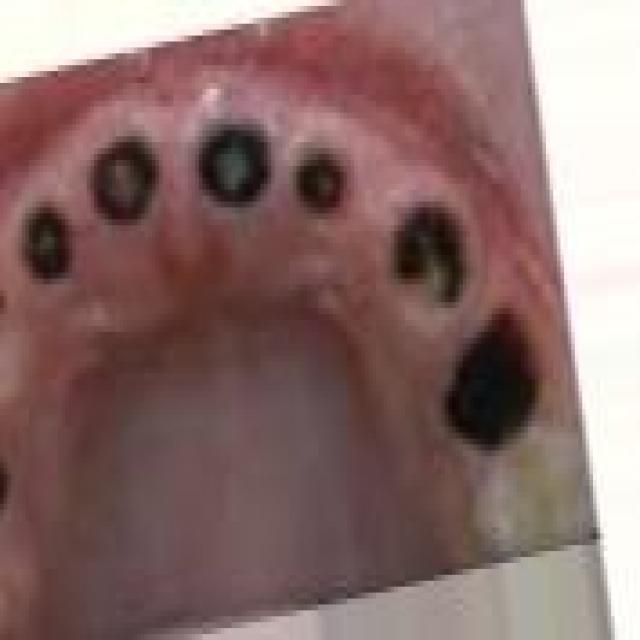caries: (425, 303, 551, 466), (378, 178, 471, 318), (188, 102, 285, 230), (82, 116, 171, 247), (12, 183, 84, 300), (286, 137, 356, 256)
